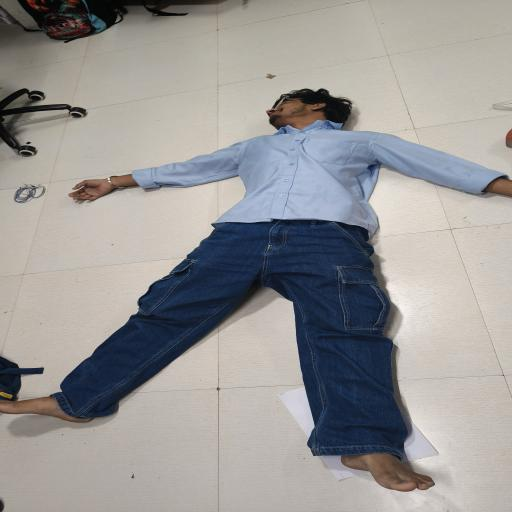survivor: (0, 88, 512, 492)
